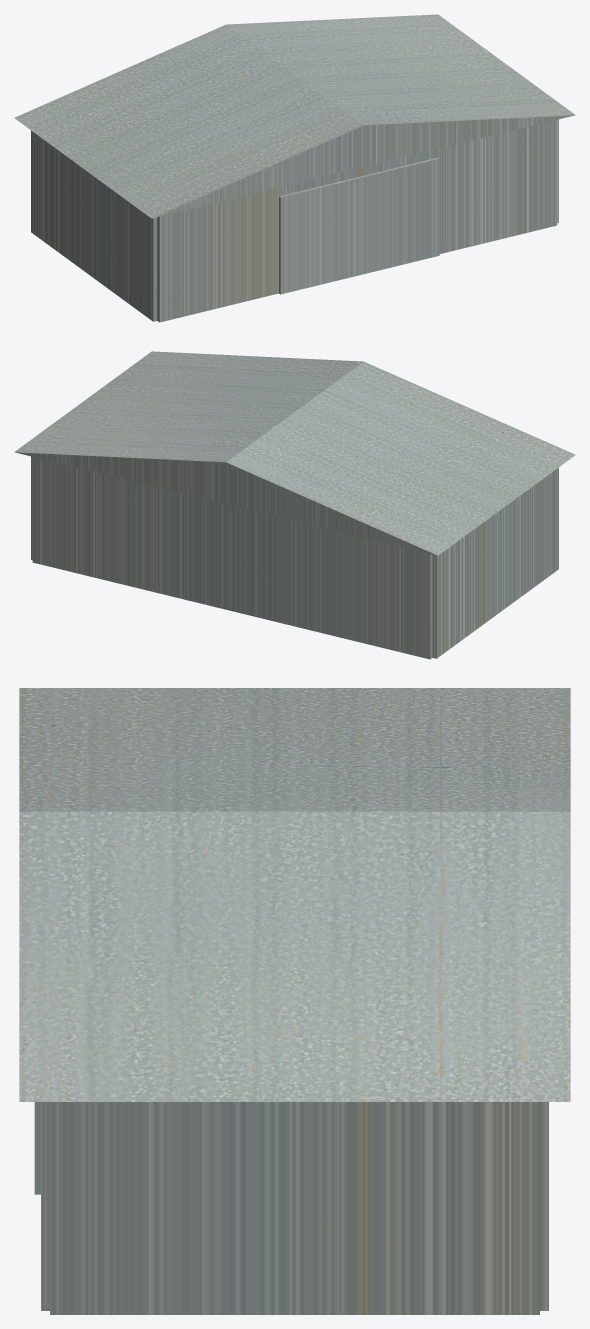
File: fire_station.glb
3 views of the same model, one above another, from view 1: azimuth 30°, elevation 25°; view 2: azimuth 150°, elevation 25°; view 3: azimuth 270°, elevation 25° (orthographic). The views are drawn at different scales.
Visible parts, largest first — view 1: FireStation; view 2: FireStation; view 3: FireStation.
Part boxes in pixels (left/top/right/bottom): FireStation: left=14, top=14, right=575, bottom=322; FireStation: left=14, top=351, right=575, bottom=659; FireStation: left=19, top=688, right=570, bottom=1314.
Bounding box in the file's own units: 16 × 5.5 × 9.
Materials: 1 (1 with a texture image).
